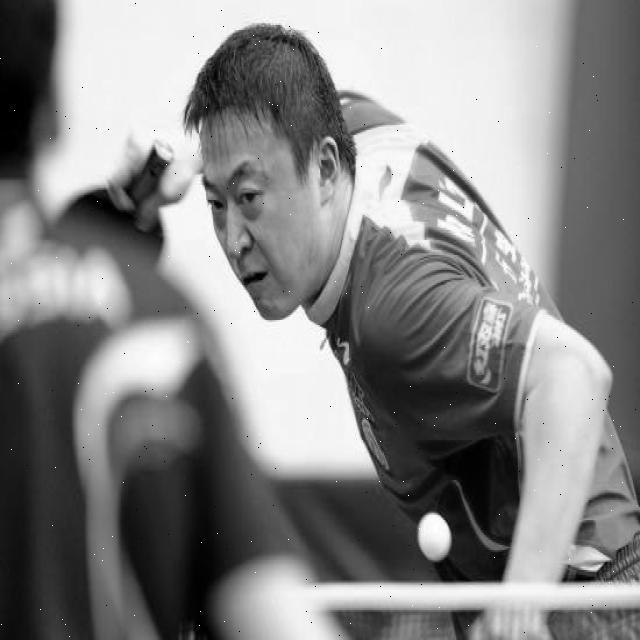ping-pong-ball: (413, 503, 452, 567)
